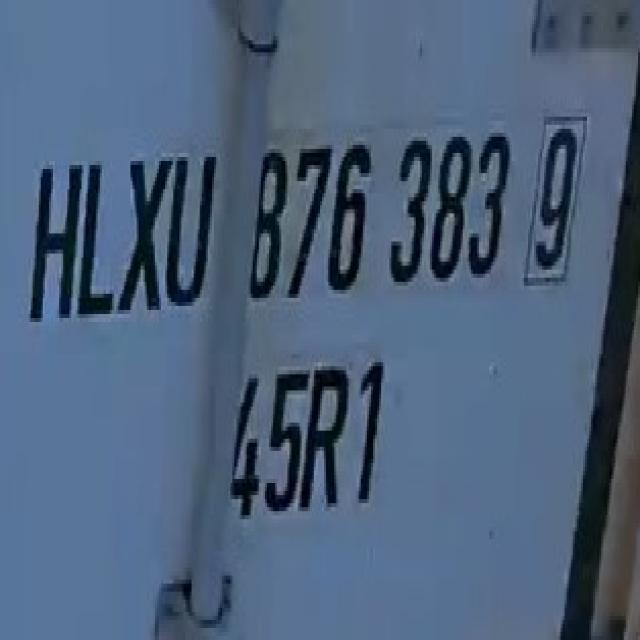dv: (527, 115, 586, 288)
owner: (22, 138, 225, 334)
serial: (239, 115, 514, 308)
size: (218, 357, 396, 530)
